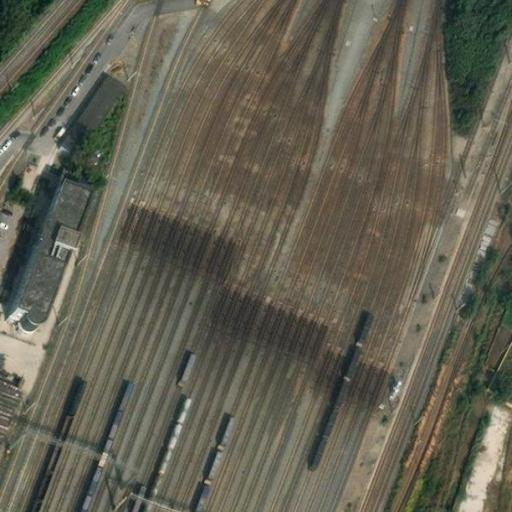building: (12, 172, 89, 321), (62, 66, 129, 146)
